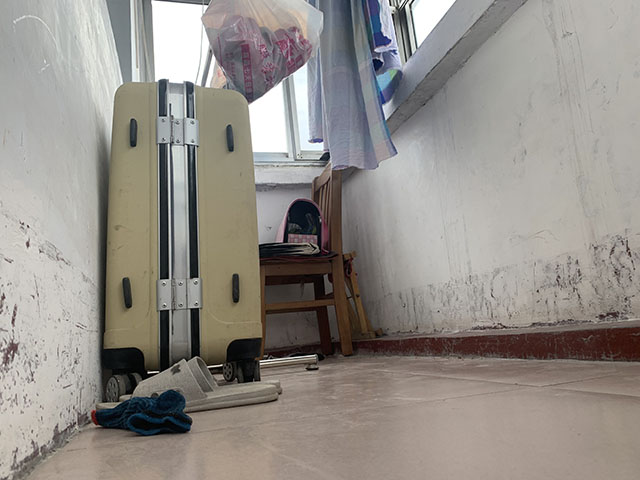slippers: (94, 356, 283, 414)
socks: (91, 390, 193, 436)
stool: (258, 159, 355, 360), (338, 251, 385, 340)
